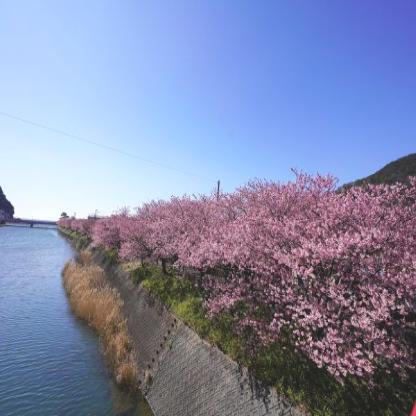KawazuSakura: (58, 164, 416, 410)
